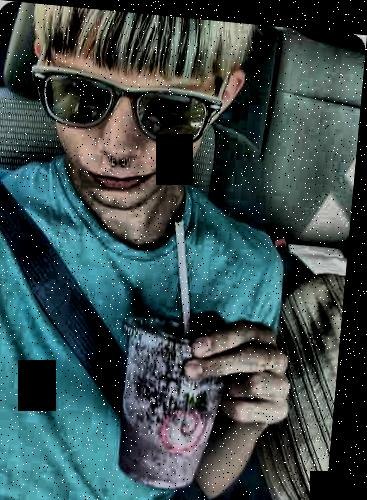seatbelt: (0, 165, 249, 500)
